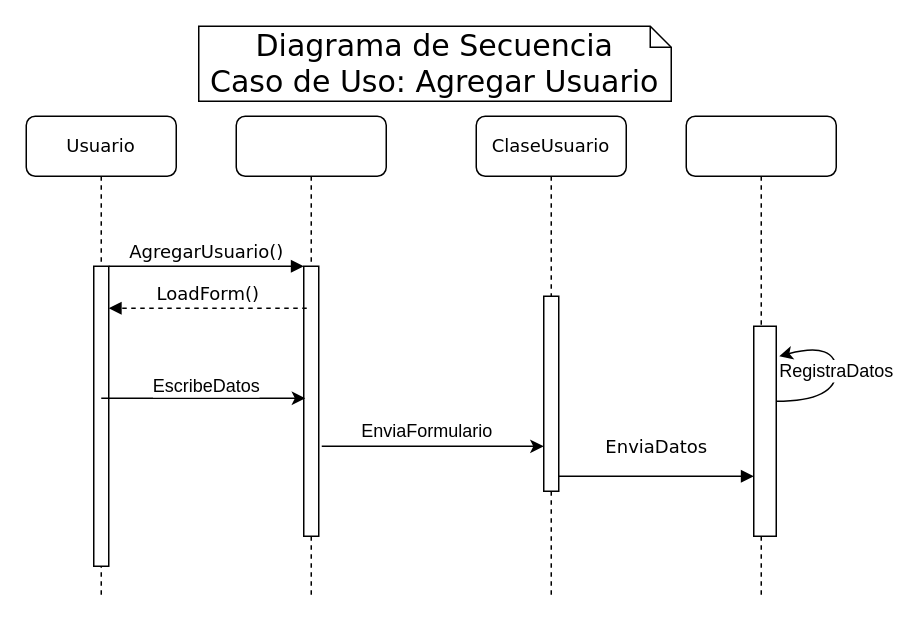
The diagram is 920 pixels wide and 623 high, and some of its shapes have lost their labels. Here are the shapes that lost their labels. From the top down, the box of each, then its label:
(235, 115, 386, 596): formAgregar Usuario
(685, 115, 836, 596): BaseDatos
